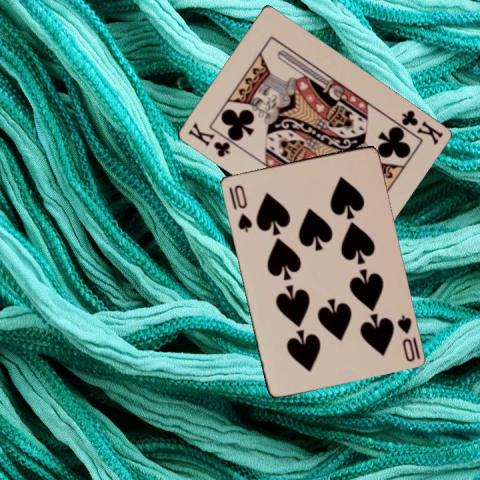10s: (231, 181, 253, 233), (394, 312, 416, 364)
Kc: (184, 120, 231, 159), (398, 107, 444, 146)
